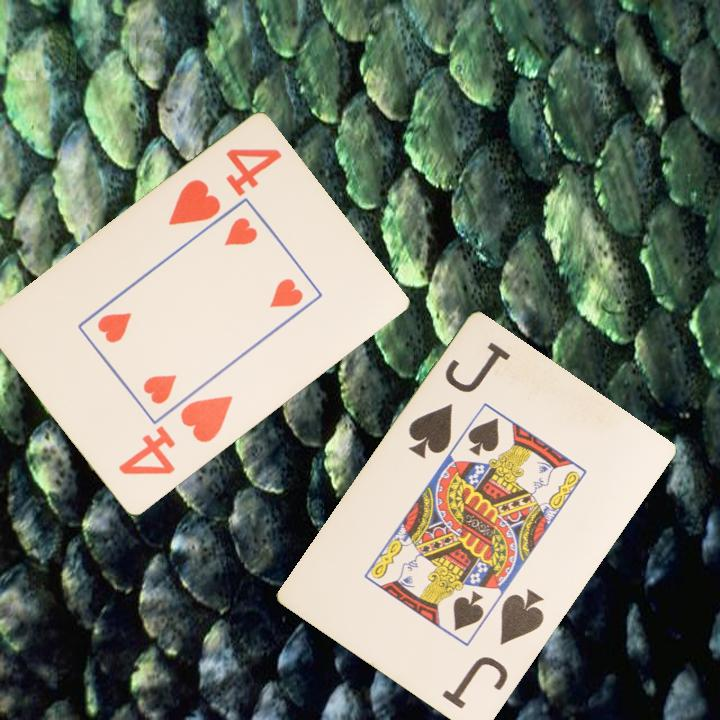4h: (114, 392, 236, 479), (164, 145, 285, 229)
Js: (438, 585, 548, 713), (404, 338, 514, 463)
